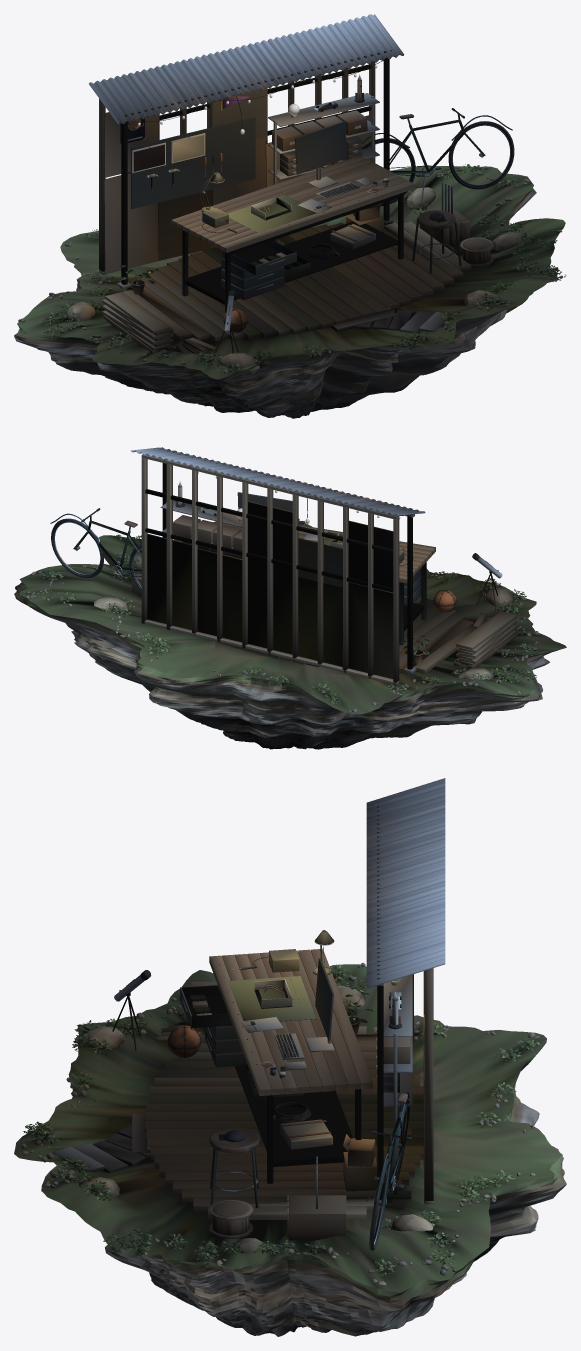
File: flight-projects-4afa03f5.glb
3 renders of one model, top to bottom at view 1: azimuth 30°, elevation 25°; view 2: azimuth 150°, elevation 25°; view 3: azimuth 270°, elevation 25°, orthographic. The views are drawn at different scales.
Visible parts, largest first — view 1: Projects island · flight.001; view 2: Projects island · flight.001; view 3: Projects island · flight.001.
Boxes of the visible parts, <box> form: Projects island · flight.001: <box>14,14,566,418</box>; Projects island · flight.001: <box>14,447,566,749</box>; Projects island · flight.001: <box>14,778,566,1336</box>.
Size of the model in its own units: 12.18 by 7.15 by 8.18.
